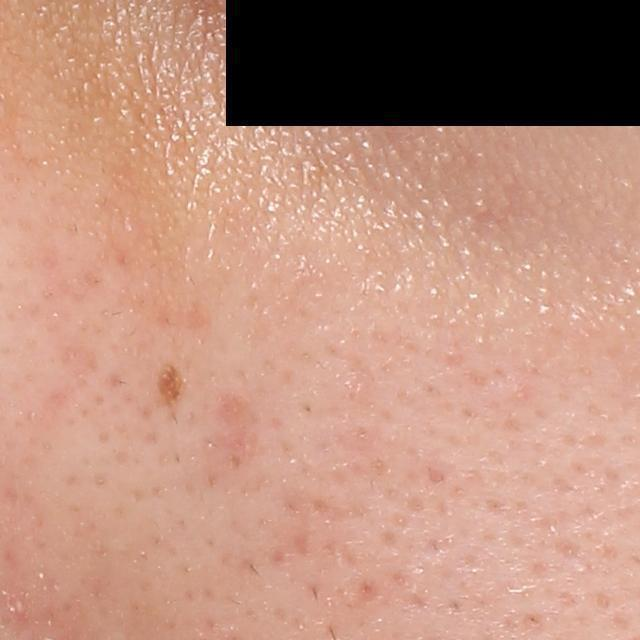nevus: (157, 356, 187, 412)
